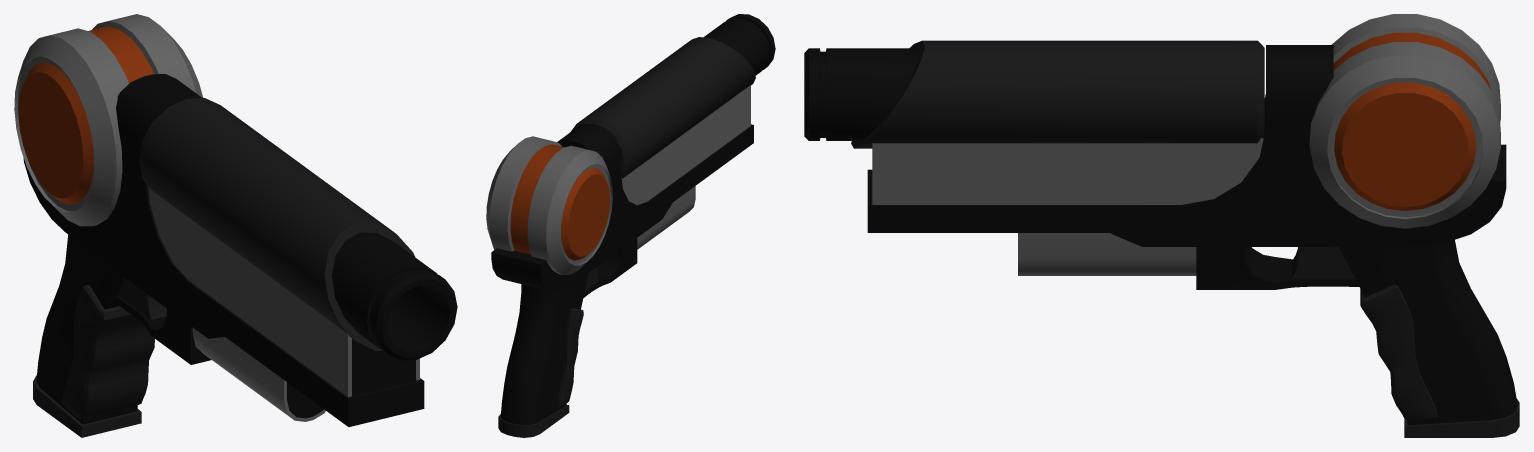
Rendered from Pistol_1.fbx.
3 renders of one model, left to right at view 1: azimuth 30°, elevation 25°; view 2: azimuth 150°, elevation 25°; view 3: azimuth 270°, elevation 25°, orthographic. The views are drawn at different scales.
Visible parts, largest first — view 1: Pistol_1; view 2: Pistol_1; view 3: Pistol_1.
Boxes of the visible parts, x1=… form: Pistol_1: x1=14, y1=14, x2=457, y2=437; Pistol_1: x1=486, y1=14, x2=775, y2=437; Pistol_1: x1=804, y1=14, x2=1519, y2=437.
Bounding box in the file's own units: 0.1782 × 0.5605 × 0.9344.
